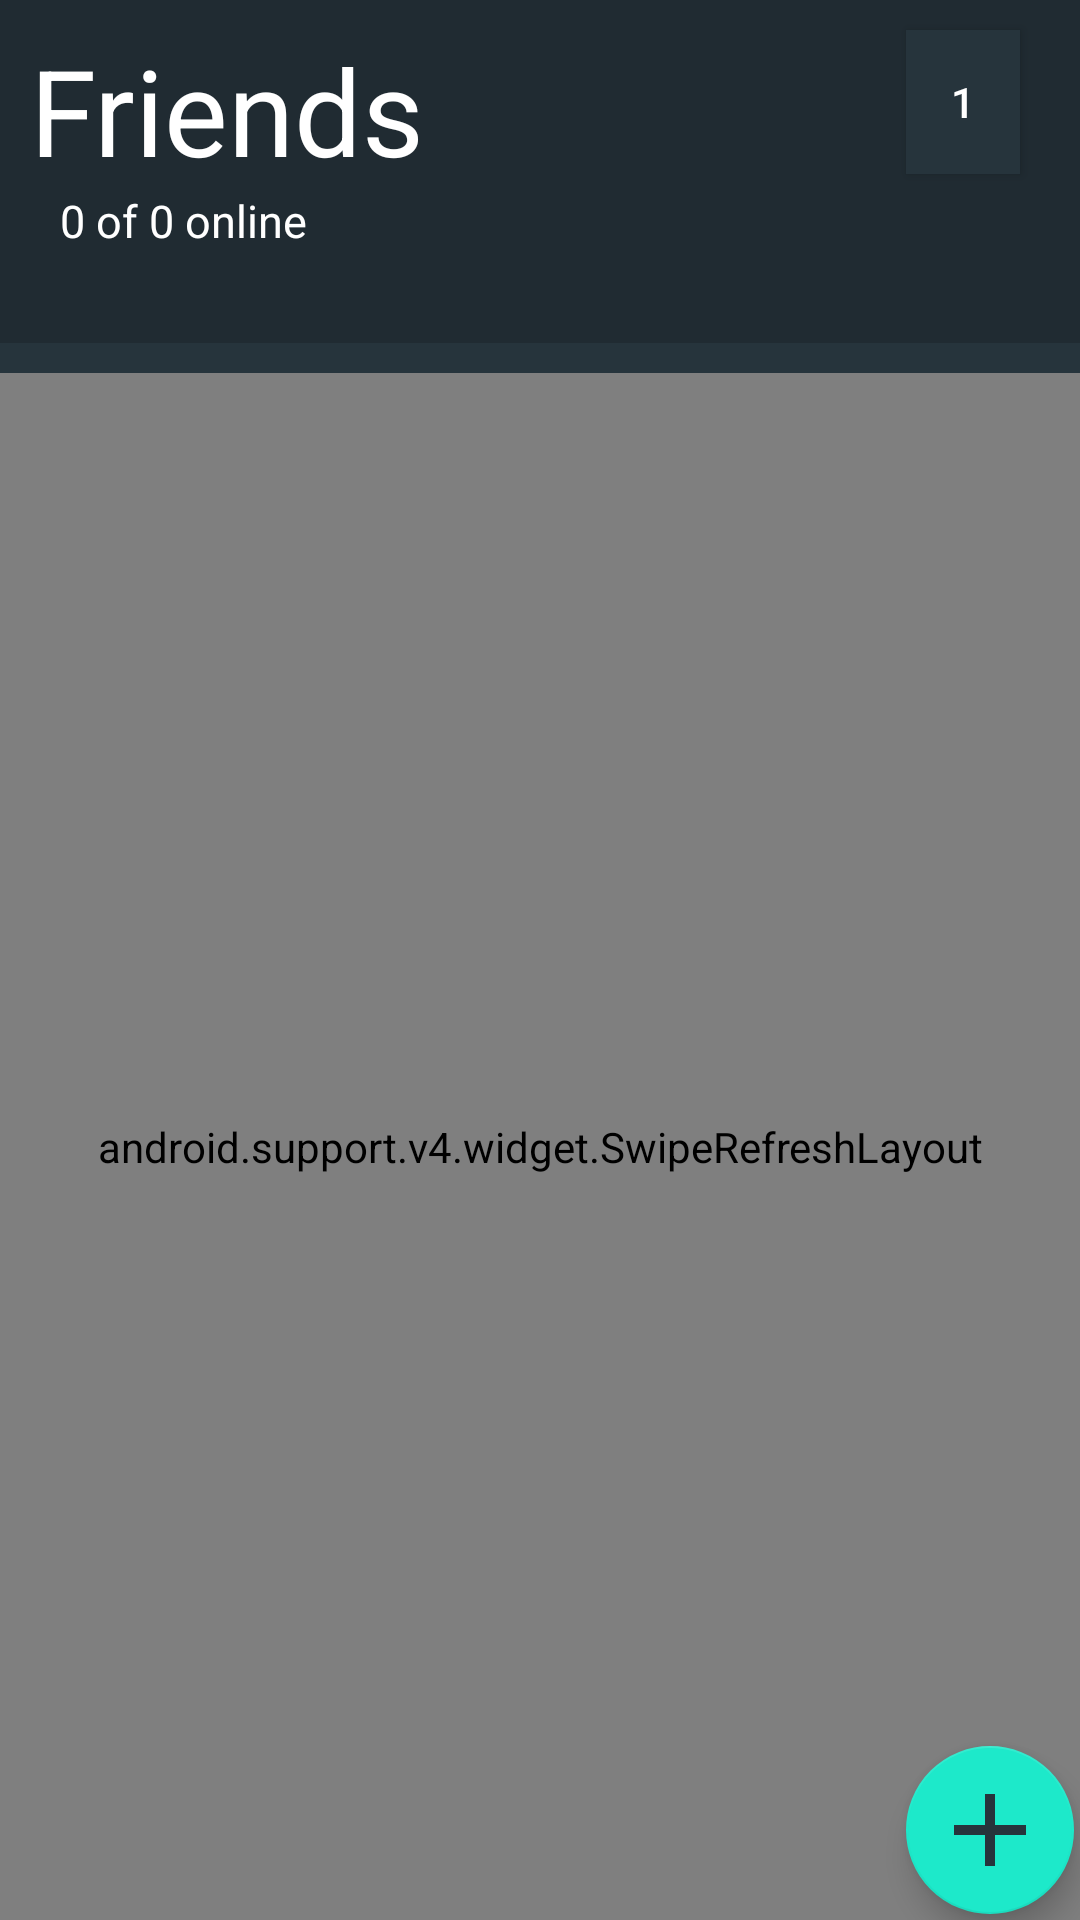

Named icons in this screenshot (1080*1920) and their bounding boxes, (x1, y1, x2, y2):
add: (906, 1746, 1074, 1914)
